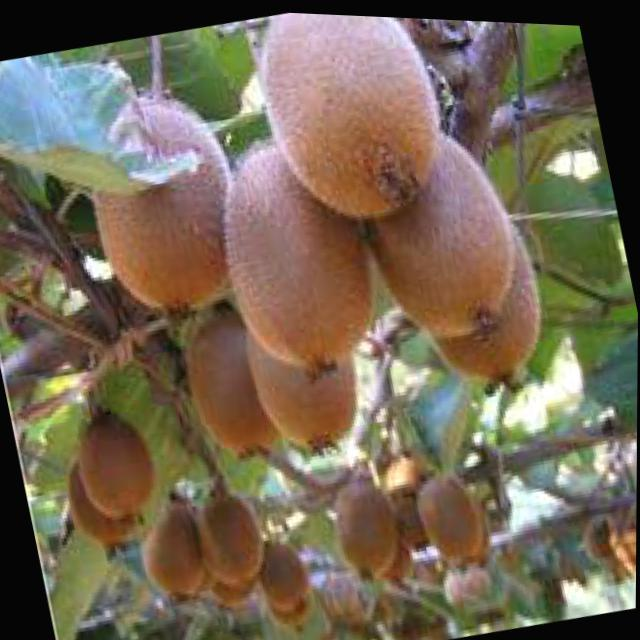kiwi: (243, 10, 461, 238), (203, 123, 390, 384), (69, 80, 253, 325), (351, 117, 530, 343), (238, 300, 371, 463), (176, 304, 280, 466), (65, 400, 165, 530), (322, 460, 409, 587), (127, 484, 214, 608), (184, 474, 269, 592), (411, 464, 494, 572), (250, 532, 313, 617)
